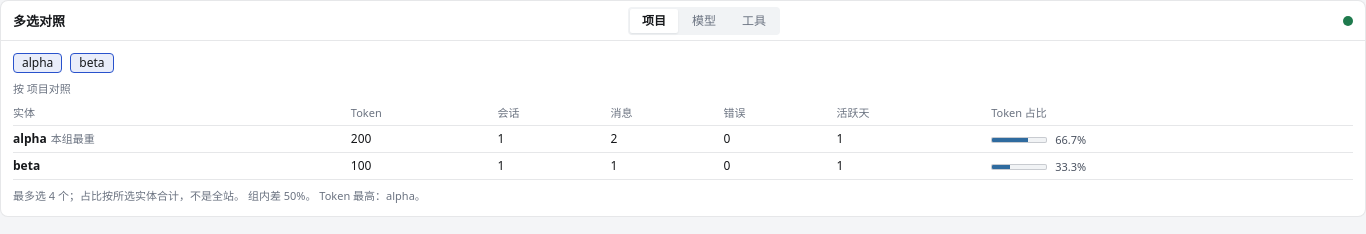
it: MultiComparePanel（I4 多选对照） › 取消到只剩一个实体时不出表，提示再选一个
Click the button "alpha".
click(38, 63)  # box [13,53,62,73]
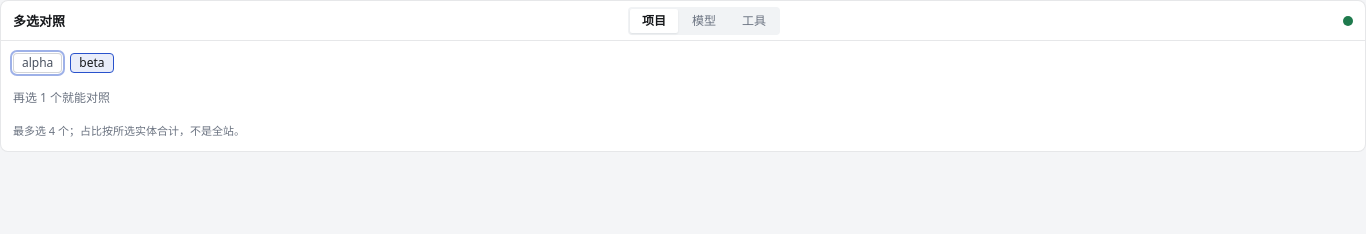
Expected: the text "再选 1 个就能对照" is shown, [13,89,110,106]
